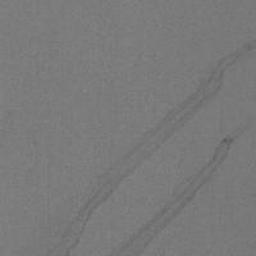Water spot: (49, 33, 256, 256), (106, 115, 253, 255)
